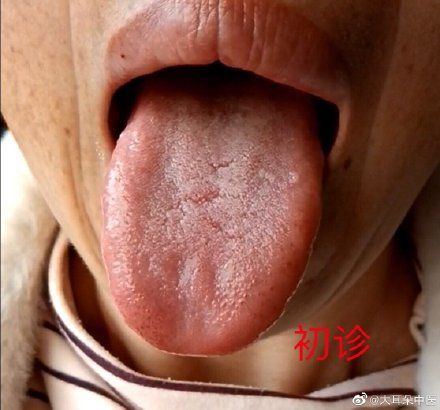baitaishe: (101, 78, 325, 358)
hongshe: (101, 78, 325, 358)
liewenshe: (190, 158, 240, 239)
